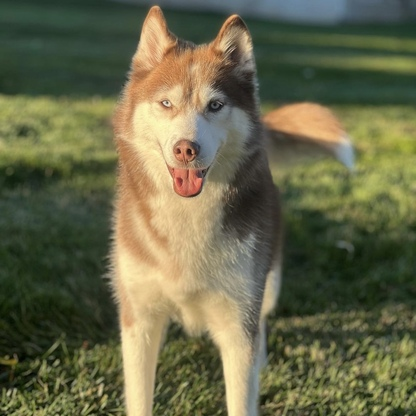husky: (97, 1, 295, 416)
